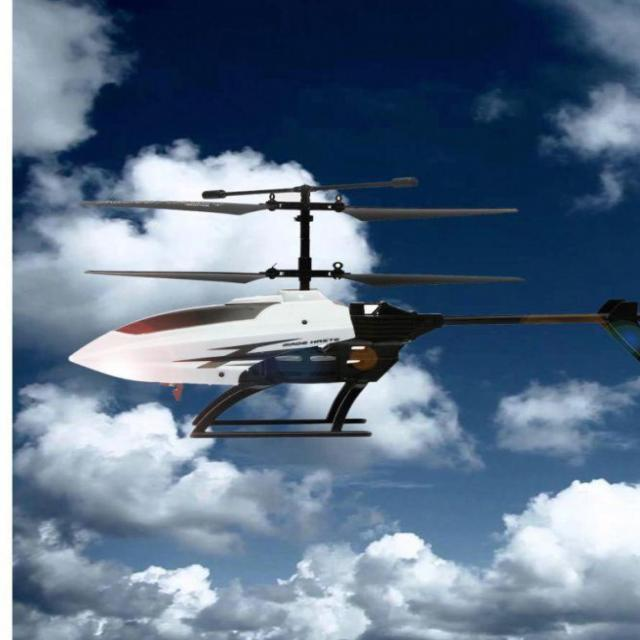helicopter: (75, 171, 640, 449)
